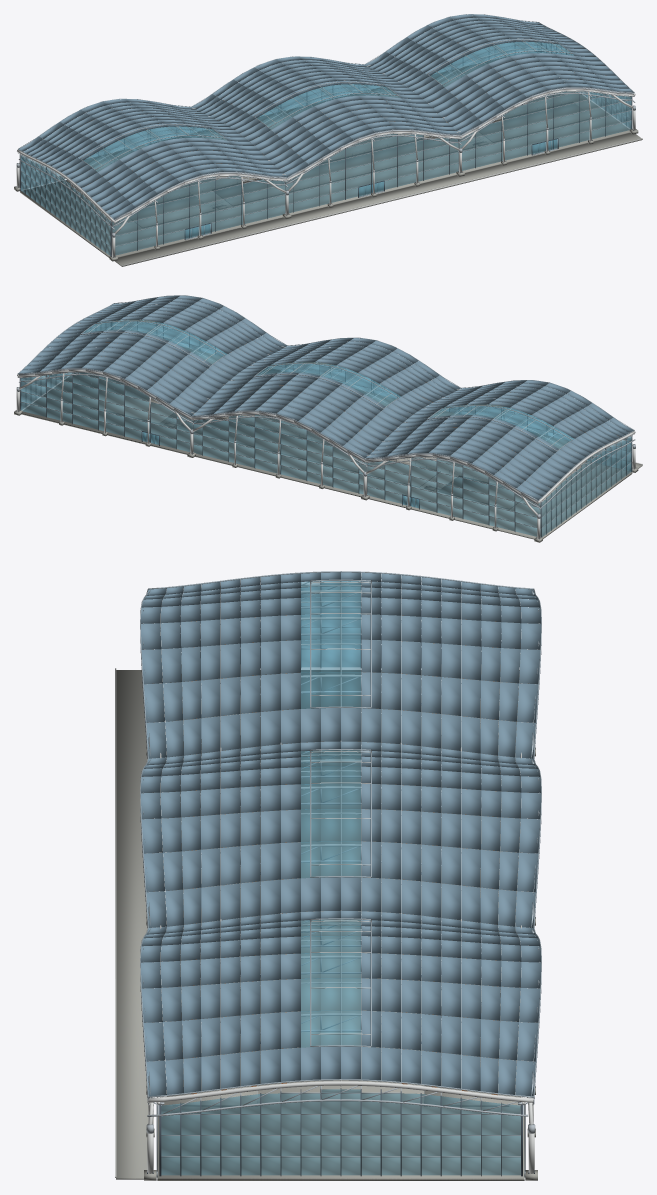
File: AIR02_lod2.glb
The picture shows the model from 3 angles, top to bottom: view 1: azimuth 30°, elevation 25°; view 2: azimuth 150°, elevation 25°; view 3: azimuth 270°, elevation 25°; orthographic projection. The views are drawn at different scales.
Visible parts, largest first — view 1: Facade_FrontArrival_LaminatedCurtainGlass, Interior_Arrivals_FinishedPolishedConcreteSlab, Roof_Wave_3_Half_1_CurvedAluminium, Roof_Wave_2_Half_1_CurvedAluminium, Roof_Wave_1_Half_1_CurvedAluminium, Interior_Concourse_SideMezzanineSlabs, Roof_Wave_2_Half_2_CurvedAluminium, Roof_Wave_3_Half_2_CurvedAluminium, Roof_Wave_1_Half_2_CurvedAluminium, Interior_Landside_PavedDropOffApron, Facade_Gable_End_0_CurtainGlass, Facade_RearAirside_LaminatedCurtainGlass (+22 smaller); view 2: Facade_RearAirside_LaminatedCurtainGlass, Interior_Arrivals_FinishedPolishedConcreteSlab, Roof_Wave_3_Half_1_CurvedAluminium, Roof_Wave_2_Half_1_CurvedAluminium, Roof_Wave_1_Half_1_CurvedAluminium, Interior_Concourse_SideMezzanineSlabs, Roof_Wave_3_Half_2_CurvedAluminium, Roof_Wave_1_Half_2_CurvedAluminium, Roof_Wave_2_Half_2_CurvedAluminium, Facade_Gable_End_0_CurtainGlass, Facade_FrontArrival_LaminatedCurtainGlass, Facade_RearAirside_TransomsAndHighGableHeads (+21 smaller); view 3: Roof_Wave_2_Half_2_CurvedAluminium, Roof_Wave_1_Half_2_CurvedAluminium, Roof_Wave_3_Half_2_CurvedAluminium, Interior_Arrivals_FinishedPolishedConcreteSlab, Facade_Gable_End_180_CurtainGlass, Interior_Landside_PavedDropOffApron, Roof_Wave_2_Half_1_CurvedAluminium, Roof_Wave_3_Half_1_CurvedAluminium, Roof_Wave_1_Half_1_CurvedAluminium, Roof_Wave_2_Half_2_GlazedSkylight, Roof_Wave_3_Half_2_GlazedSkylight, Roof_Wave_1_Half_2_GlazedSkylight (+18 smaller).
Boxes of the visible parts, box(x1,y1,x2,y2) form: Facade_FrontArrival_LaminatedCurtainGlass: box(112, 91, 631, 255); Interior_Arrivals_FinishedPolishedConcreteSlab: box(20, 70, 630, 257); Roof_Wave_3_Half_1_CurvedAluminium: box(365, 17, 548, 134); Roof_Wave_2_Half_1_CurvedAluminium: box(192, 59, 375, 176); Roof_Wave_1_Half_1_CurvedAluminium: box(19, 101, 201, 219); Interior_Concourse_SideMezzanineSlabs: box(69, 56, 593, 227); Roof_Wave_2_Half_2_CurvedAluminium: box(276, 56, 459, 134); Roof_Wave_3_Half_2_CurvedAluminium: box(450, 14, 633, 92); Roof_Wave_1_Half_2_CurvedAluminium: box(103, 99, 287, 177); Interior_Landside_PavedDropOffApron: box(114, 133, 642, 266); Facade_Gable_End_0_CurtainGlass: box(21, 156, 110, 255); Facade_RearAirside_LaminatedCurtainGlass: box(21, 24, 540, 189); Facade_RearAirside_LaminatedCurtainGlass: box(21, 372, 540, 536); Interior_Arrivals_FinishedPolishedConcreteSlab: box(21, 347, 632, 539); Roof_Wave_3_Half_1_CurvedAluminium: box(103, 298, 286, 415); Roof_Wave_2_Half_1_CurvedAluminium: box(277, 340, 460, 458); Roof_Wave_1_Half_1_CurvedAluminium: box(450, 383, 633, 500); Interior_Concourse_SideMezzanineSlabs: box(59, 342, 578, 509); Roof_Wave_3_Half_2_CurvedAluminium: box(19, 295, 202, 373); Roof_Wave_1_Half_2_CurvedAluminium: box(366, 380, 548, 458); Roof_Wave_2_Half_2_CurvedAluminium: box(192, 338, 375, 416); Facade_Gable_End_0_CurtainGlass: box(541, 437, 631, 536); Facade_FrontArrival_LaminatedCurtainGlass: box(112, 314, 630, 470); Facade_RearAirside_TransomsAndHighGableHeads: box(20, 372, 540, 528); Roof_Wave_2_Half_2_CurvedAluminium: box(141, 783, 540, 927); Roof_Wave_1_Half_2_CurvedAluminium: box(141, 614, 540, 758); Roof_Wave_3_Half_2_CurvedAluminium: box(141, 953, 540, 1096); Interior_Arrivals_FinishedPolishedConcreteSlab: box(157, 670, 524, 1180); Facade_Gable_End_180_CurtainGlass: box(161, 1089, 520, 1175); Interior_Landside_PavedDropOffApron: box(116, 670, 153, 1179); Roof_Wave_2_Half_1_CurvedAluminium: box(141, 741, 540, 792); Roof_Wave_3_Half_1_CurvedAluminium: box(141, 911, 540, 962); Roof_Wave_1_Half_1_CurvedAluminium: box(141, 572, 540, 623); Roof_Wave_2_Half_2_GlazedSkylight: box(301, 783, 360, 878); Roof_Wave_3_Half_2_GlazedSkylight: box(301, 953, 360, 1047); Roof_Wave_1_Half_2_GlazedSkylight: box(301, 614, 360, 708).
Size of the model in its own units: 182 by 23.82 by 63.96.
Materials: 11 (11 with a texture image).
